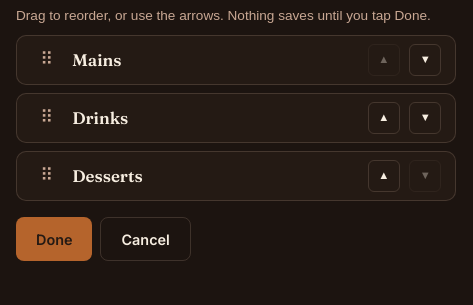
Test: CategoryReorder › a failed Done shows an inline error and keeps the mode open (no close)
Click the button "Done" at (54, 239), box [16,217,92,261]
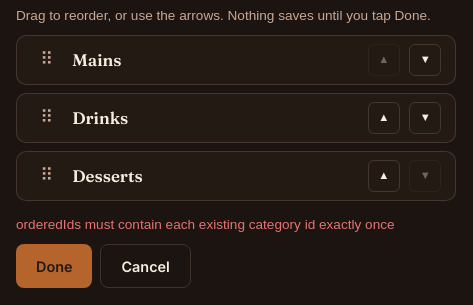
Expected: the number of list items with test id "reorder-bar" is 3, [16,35,456,85]; [16,93,456,143]; [16,151,456,201]
Expected: the message shows "orderedIds must contain", [16,217,395,232]
